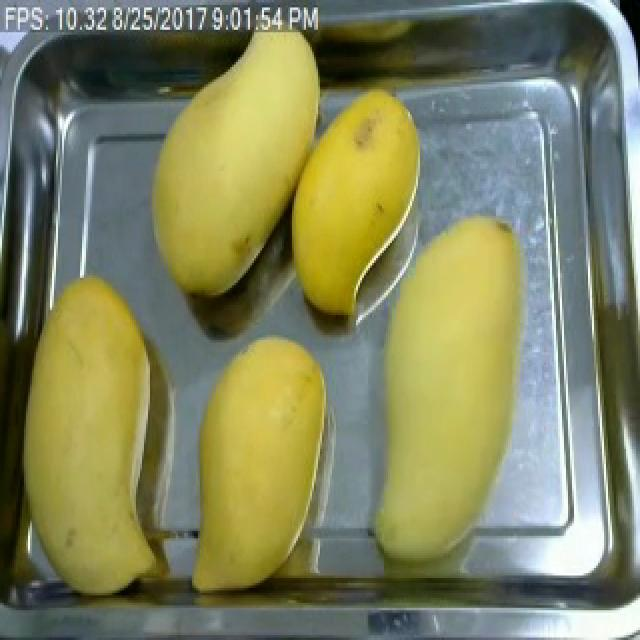fruit: (358, 203, 536, 583), (8, 265, 172, 603), (138, 22, 326, 315), (182, 325, 336, 603), (272, 74, 436, 330)
